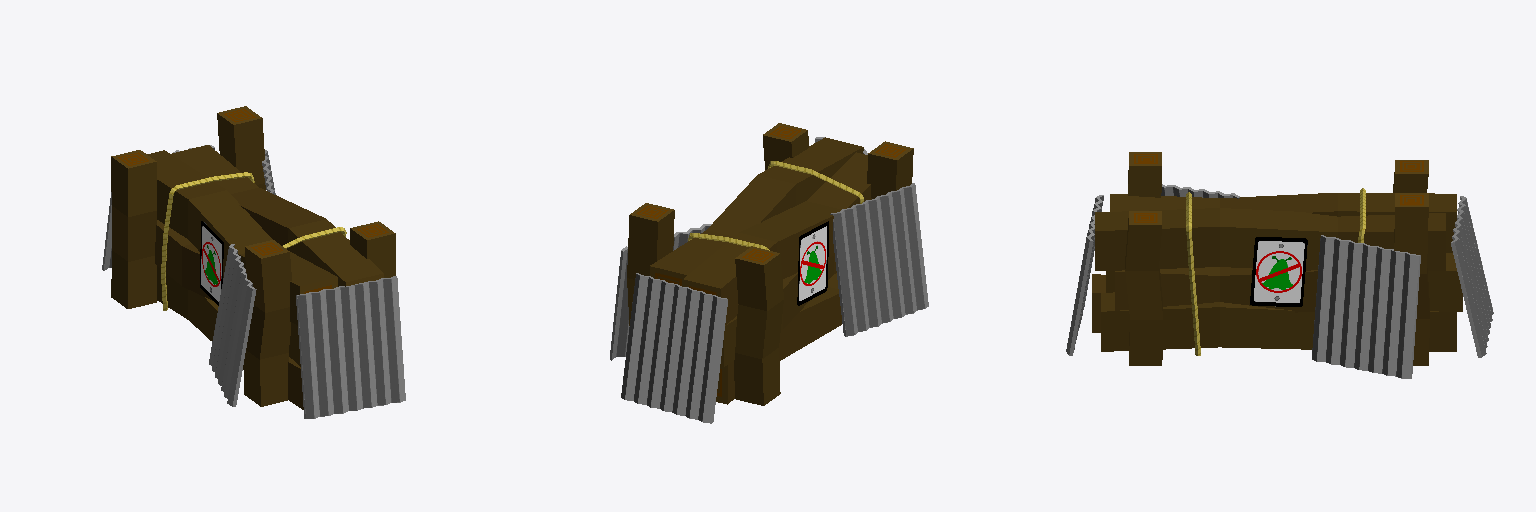
3 renders of one model, left to right at view 1: azimuth 30°, elevation 25°; view 2: azimuth 150°, elevation 25°; view 3: azimuth 270°, elevation 25°, orthographic.
Visible parts, largest first — view 1: Barricade_Cube.001, Metal_Sheets_Cube; view 2: Barricade_Cube.001, Metal_Sheets_Cube; view 3: Barricade_Cube.001, Metal_Sheets_Cube.
Part boxes in pixels (bbox=[...]): Barricade_Cube.001: bbox=[111, 106, 395, 409]; Metal_Sheets_Cube: bbox=[102, 145, 405, 418]; Barricade_Cube.001: bbox=[627, 123, 913, 405]; Metal_Sheets_Cube: bbox=[610, 137, 928, 423]; Barricade_Cube.001: bbox=[1092, 152, 1462, 365]; Metal_Sheets_Cube: bbox=[1066, 184, 1493, 378].
Bounding box in the file's own units: 5.5 × 4.5 × 10.93.
Materials: 2 (2 with a texture image).